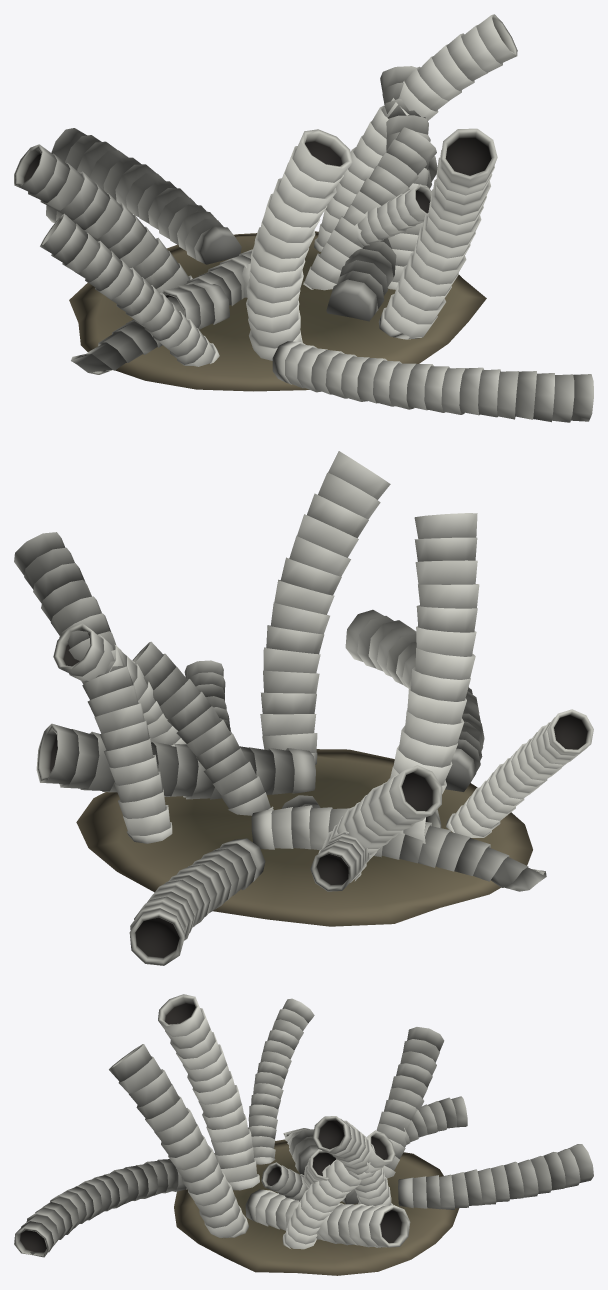
Rendered from Sinotubulites.fbx.
The picture shows the model from 3 angles, top to bottom: view 1: azimuth 30°, elevation 25°; view 2: azimuth 150°, elevation 25°; view 3: azimuth 270°, elevation 25°; orthographic projection. The views are drawn at different scales.
Parts seen in each view (by area): view 1: Sinotubulites; view 2: Sinotubulites; view 3: Sinotubulites.
Part boxes in pixels (x1,y1,x2,y2): Sinotubulites: (14, 14, 593, 422); Sinotubulites: (14, 451, 593, 965); Sinotubulites: (14, 994, 593, 1275).
Bounding box in the file's own units: 1.16 × 0.5548 × 1.52.
